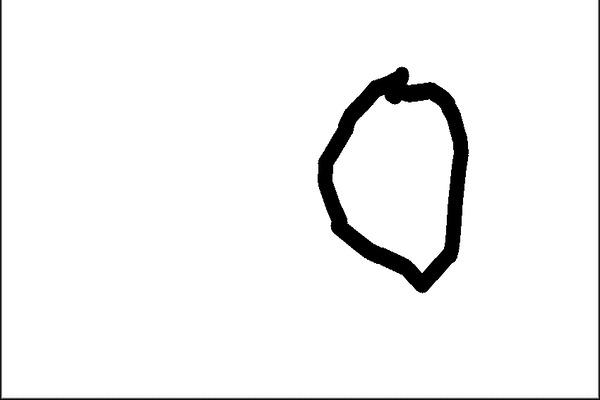O: (303, 61, 488, 300)
